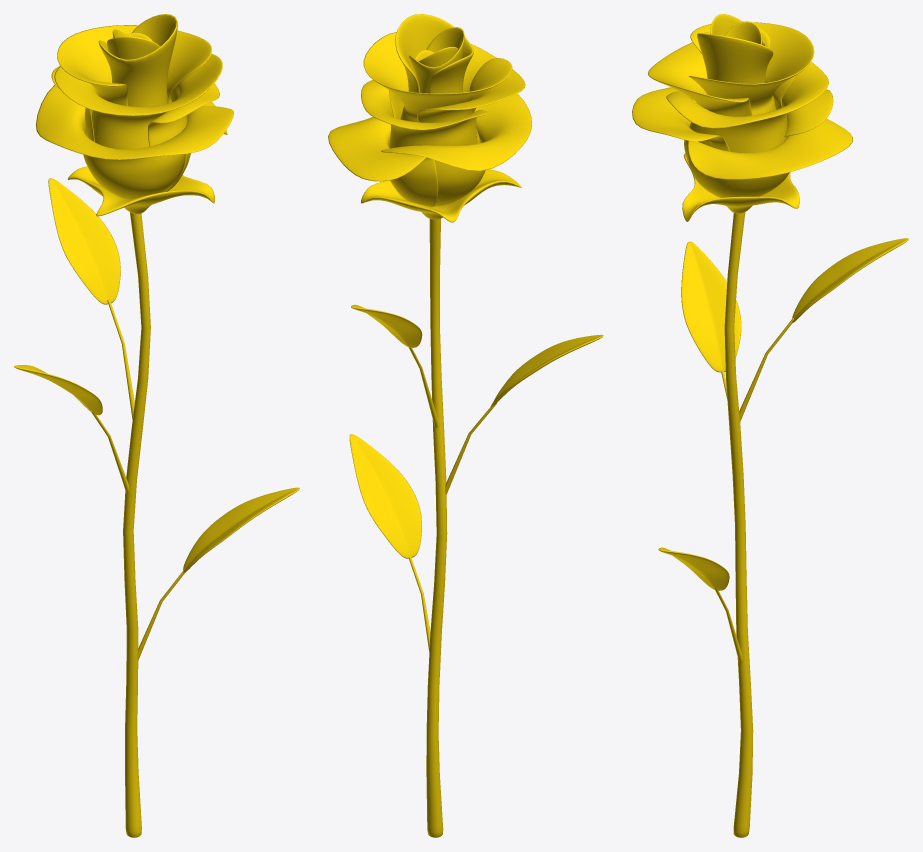
Rendered from RoseModel.fbx.
3 views of the same model, side by side, from view 1: azimuth 30°, elevation 25°; view 2: azimuth 150°, elevation 25°; view 3: azimuth 270°, elevation 25° (orthographic).
Parts seen in each view (by area): view 1: pPlane17, pCylinder1, pPlane15, pPlane19, pPlane14, pPlane4, pPlane21, pPlane22, pPlane16, pPlane3, pPlane20; view 2: pCylinder1, pPlane17, pPlane18, pPlane21, pPlane14, pPlane16, pPlane4, pPlane15, pPlane22, pPlane20, pPlane3, pPlane19 (+1 smaller); view 3: pCylinder1, pPlane18, pPlane16, pPlane20, pPlane14, pPlane17, pPlane15, pPlane4, pPlane19, pPlane22, pPlane21, pPlane2.
Part boxes in pixels (x1,y1,x2,y2): pPlane17: (36,85,233,199); pCylinder1: (123,212,150,837); pPlane15: (54,54,222,149); pPlane19: (48,178,120,304); pPlane14: (57,25,211,136); pPlane4: (98,14,177,106); pPlane21: (183,487,299,573); pPlane22: (67,166,214,216); pPlane16: (51,66,219,146); pPlane3: (107,32,160,59); pPlane20: (14,365,102,415); pCylinder1: (426,218,447,837); pPlane17: (381,94,531,206); pPlane18: (328,117,438,206); pPlane21: (349,434,421,558); pPlane14: (363,32,512,122); pPlane16: (361,80,487,148); pPlane4: (395,14,473,93); pPlane15: (389,44,525,143); pPlane22: (361,169,521,222); pPlane20: (490,334,603,407); pPlane3: (409,27,464,93); pPlane19: (351,304,422,347); pCylinder1: (724,212,753,837); pPlane18: (687,118,852,197); pPlane16: (666,61,828,152); pPlane20: (681,241,741,372); pPlane14: (689,21,814,115); pPlane17: (632,87,833,163); pPlane15: (648,42,795,116); pPlane4: (697,27,773,83); pPlane19: (792,238,908,323); pPlane22: (682,153,799,221); pPlane21: (658,547,729,590); pPlane2: (725,21,762,44).
Size of the model in its own units: 2.09 by 6.02 by 1.85.
